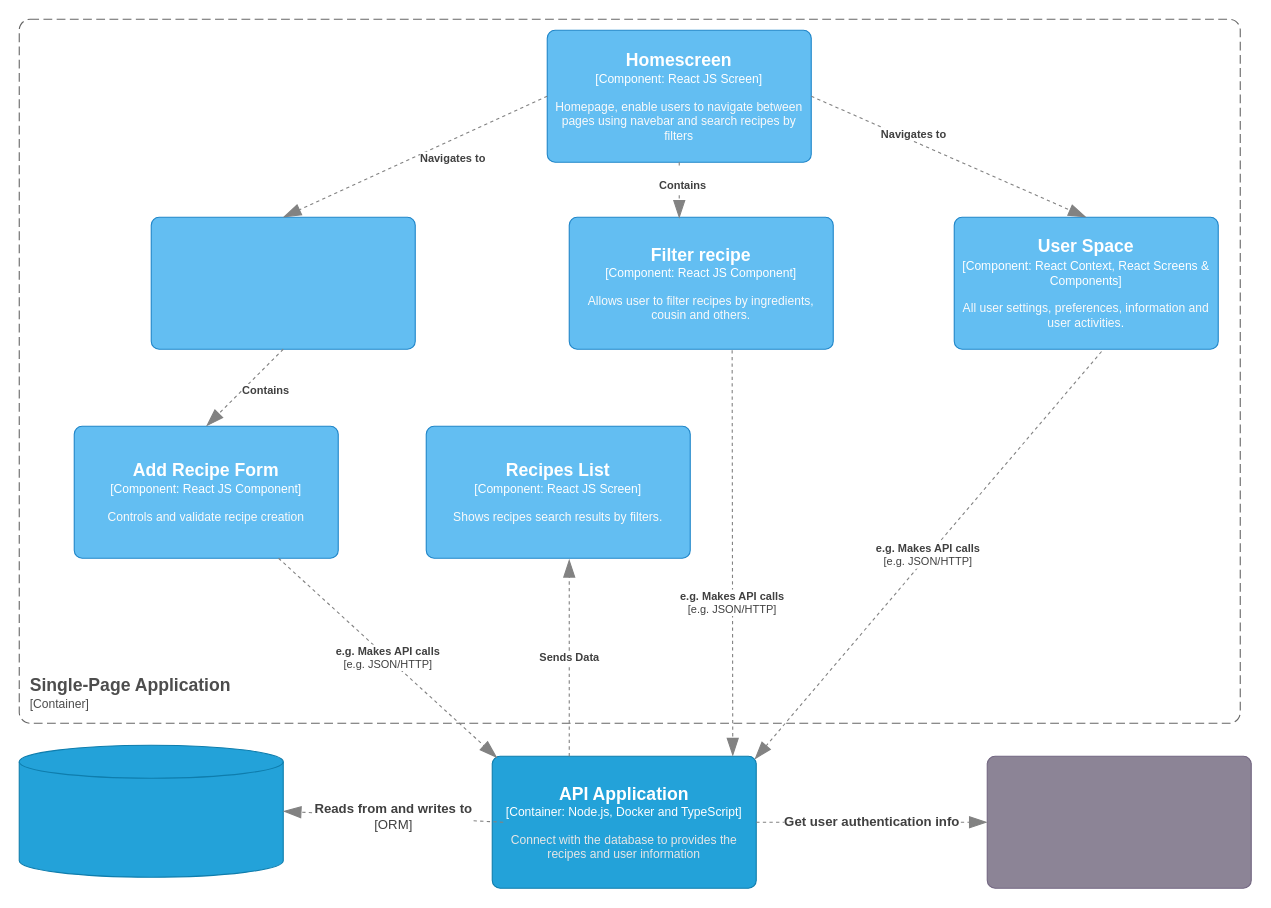
This 1271x908 diagram has some shape labels left out. The centre of each missing label's shape, as x and y in pixels:
"Database [Container: PostgreSQL] Store user and recipes data." goes at (150,810).
"Keep a Recipe [Component: React JS Screen] Enable user to create recipes" goes at (282,282).
"User authentication [Software System] OAuth 2.0" goes at (1118,821).
